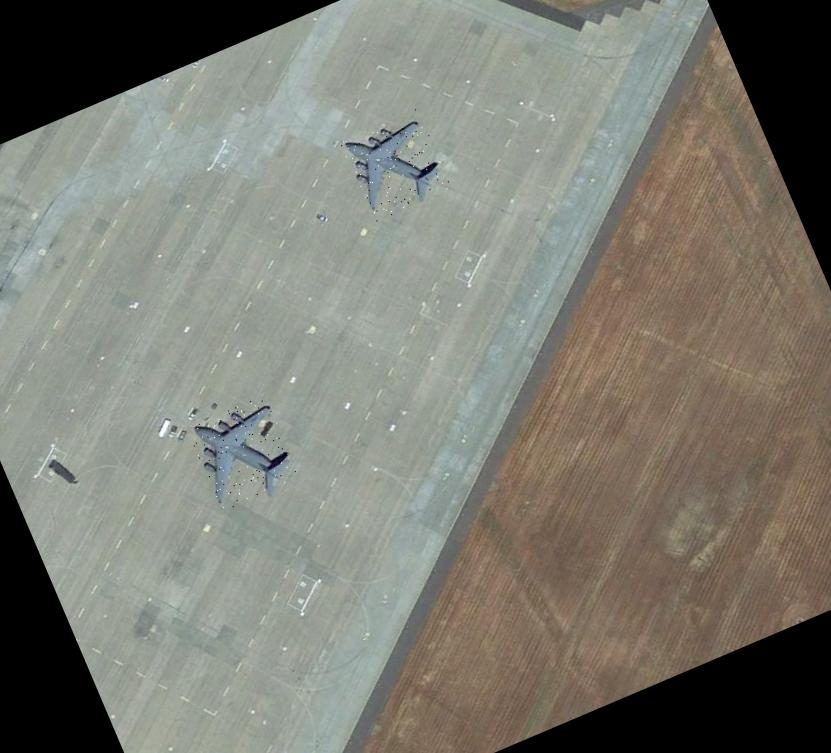A3: (186, 394, 301, 512), (339, 108, 452, 222)
